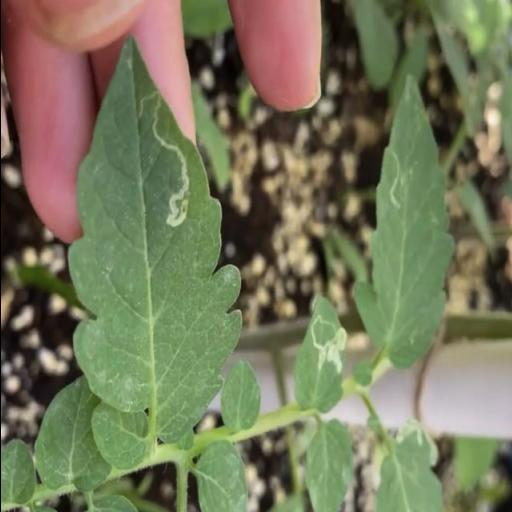Leaf Miner: (66, 29, 242, 443), (290, 296, 350, 419)
